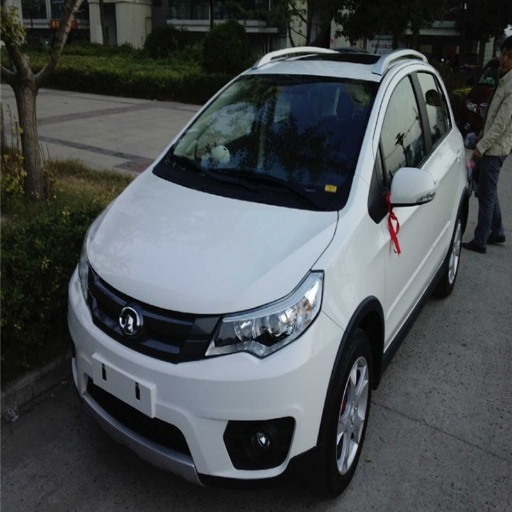front_bumper: (69, 271, 343, 482)
front_glass: (153, 77, 379, 210)
front_left_door: (372, 63, 435, 330)
